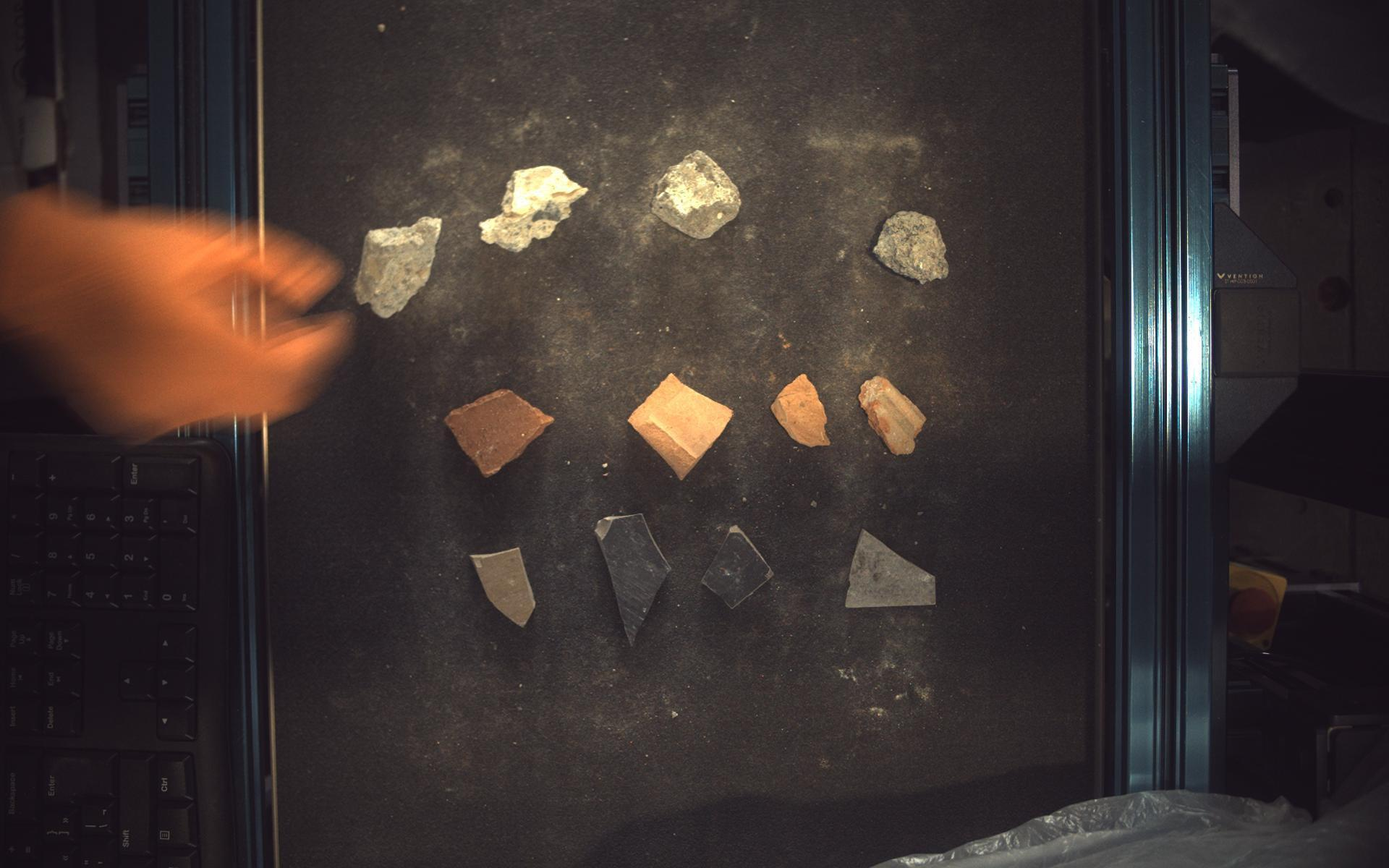brick: (629, 374, 734, 480), (443, 389, 554, 477), (860, 376, 927, 455), (773, 374, 831, 447)
concrete: (480, 165, 588, 252), (354, 216, 441, 318), (652, 149, 742, 238), (875, 210, 949, 283)
tile: (595, 514, 671, 646), (847, 530, 938, 609), (702, 526, 775, 608), (472, 549, 536, 627)
